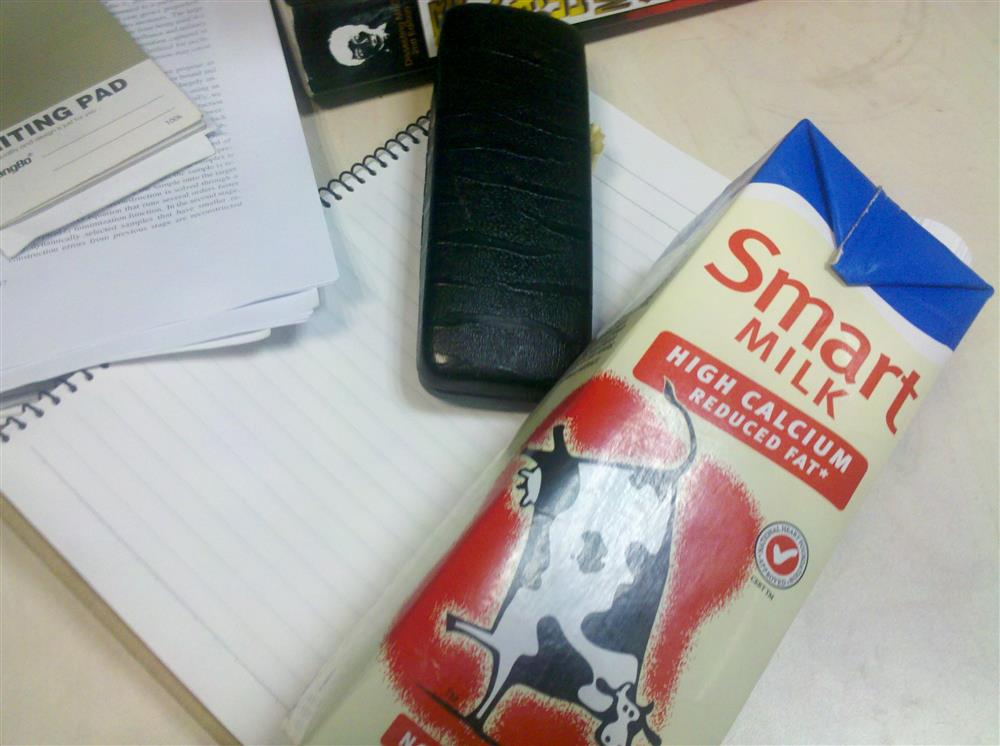Smart_Milk: (349, 117, 991, 738)
